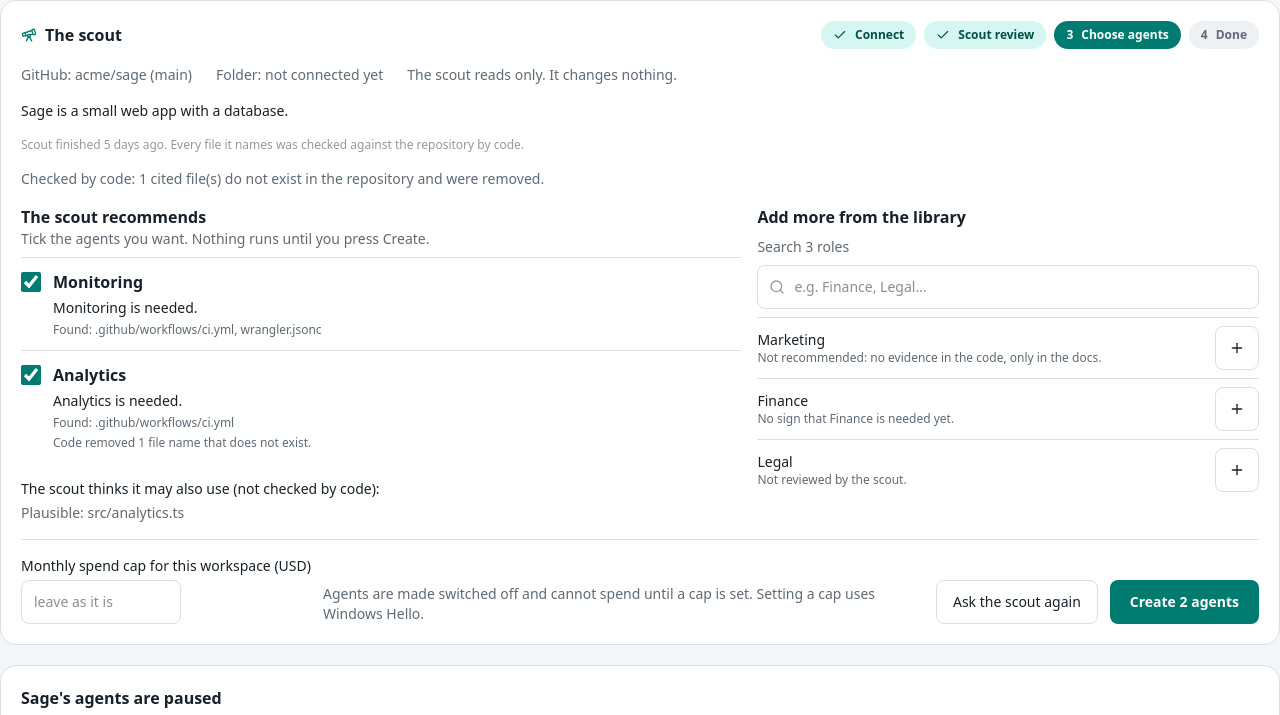
the scout on the Agents tab › Create makes each ticked agent, switched off with no spending, and says so
Step 1. Click the button "Create 2 agents" → (1184,602), box [1110,580,1259,624]
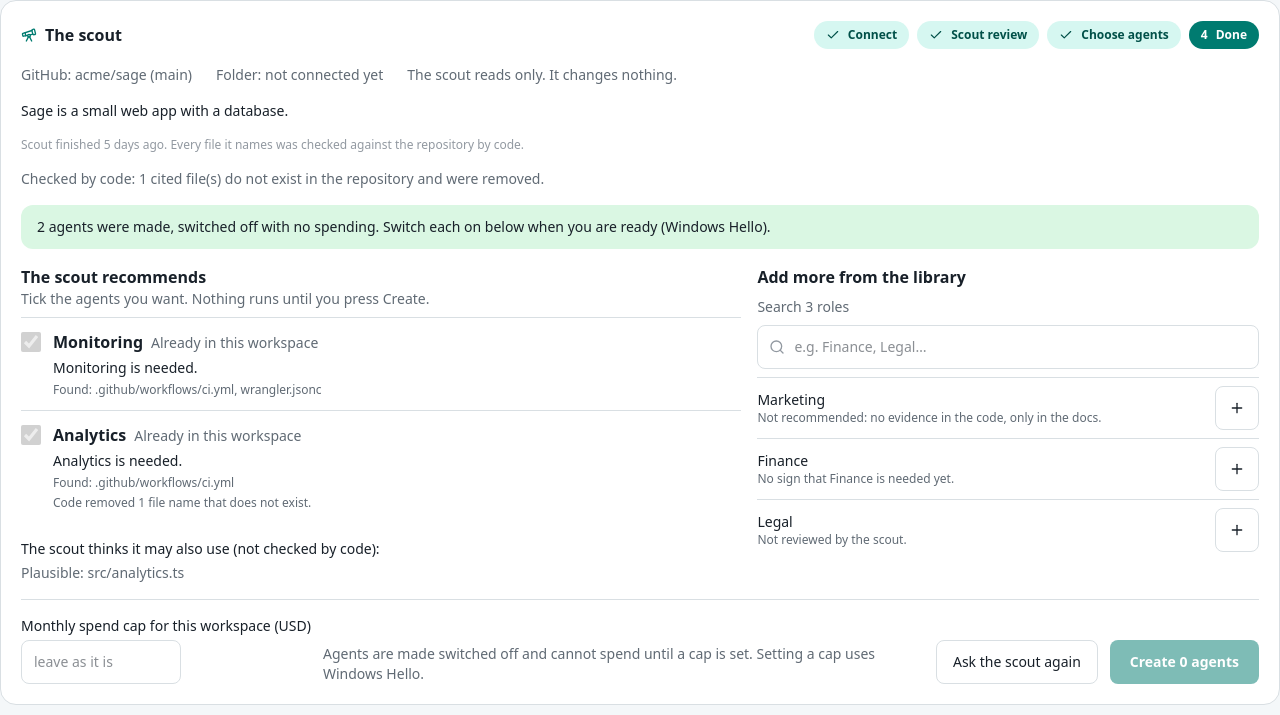
expect the text "2 agents were made, switched off with no spending" is shown: met, box [21,205,1259,249]
expect the checkbox labelled "Monitoring" is disabled: met, box [21,332,41,352]
expect the button "Create 0 agents" is disabled: met, box [1110,640,1259,684]
